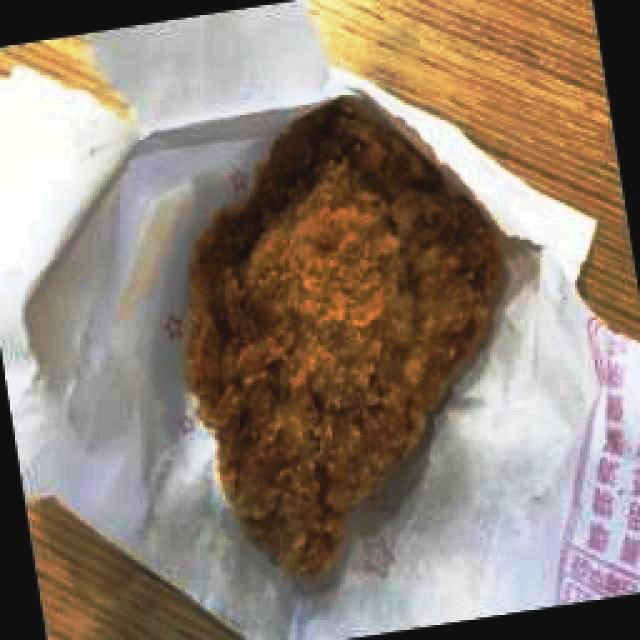fried_chicken: (183, 99, 498, 573)
